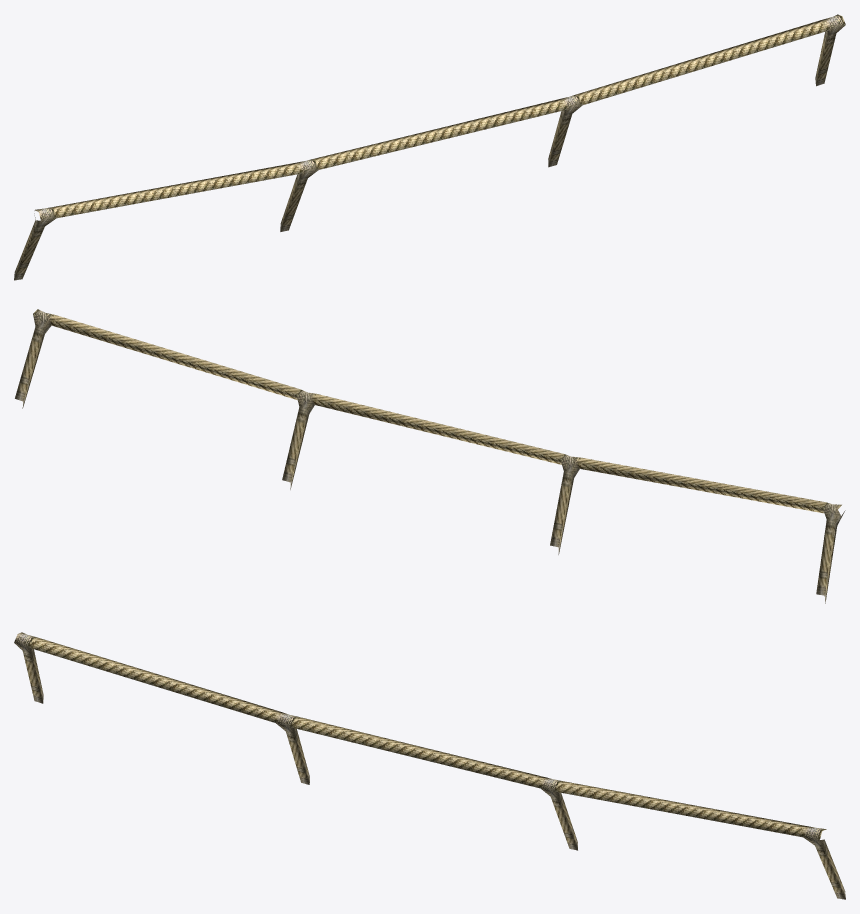
The model's file is Mission8_RopeBridge_A2.glb.
The picture shows the model from 3 angles, top to bottom: view 1: azimuth 30°, elevation 25°; view 2: azimuth 150°, elevation 25°; view 3: azimuth 330°, elevation 25°; orthographic projection.
Parts seen in each view (by area): view 1: MISSION8_ROPEBRIDGE_A2; view 2: MISSION8_ROPEBRIDGE_A2; view 3: MISSION8_ROPEBRIDGE_A2.
Boxes of the visible parts, x1=… form: MISSION8_ROPEBRIDGE_A2: x1=14, y1=14, x2=845, y2=280; MISSION8_ROPEBRIDGE_A2: x1=15, y1=309, x2=845, y2=603; MISSION8_ROPEBRIDGE_A2: x1=14, y1=632, x2=845, y2=899.
Size of the model in its own units: 12.23 by 1.44 by 0.622.
3 materials, 3 textured.
